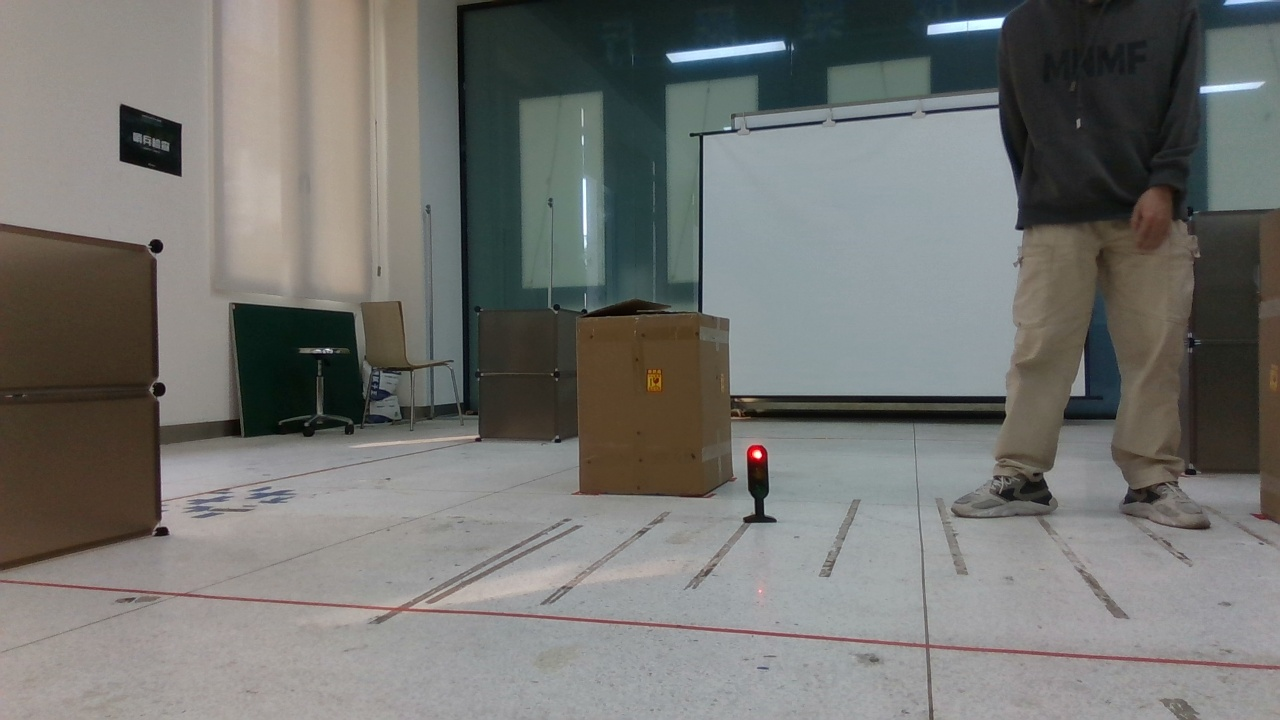red_light: (734, 443, 788, 532)
